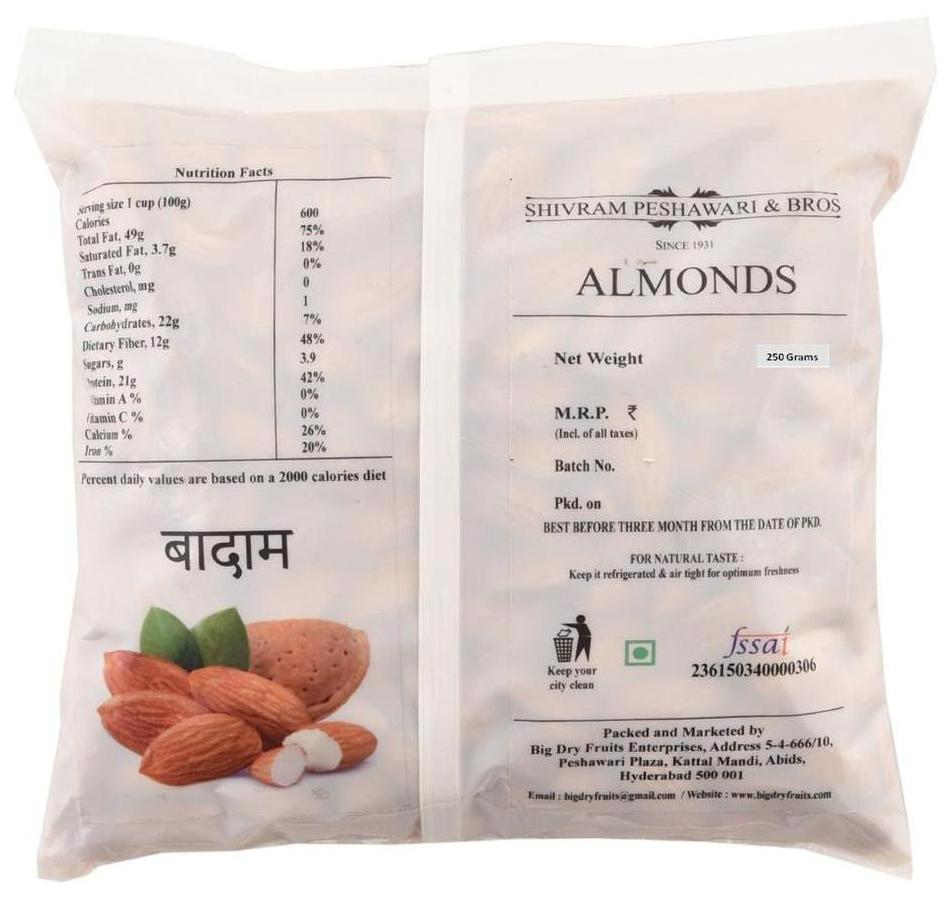fssai: (720, 625, 792, 658)
